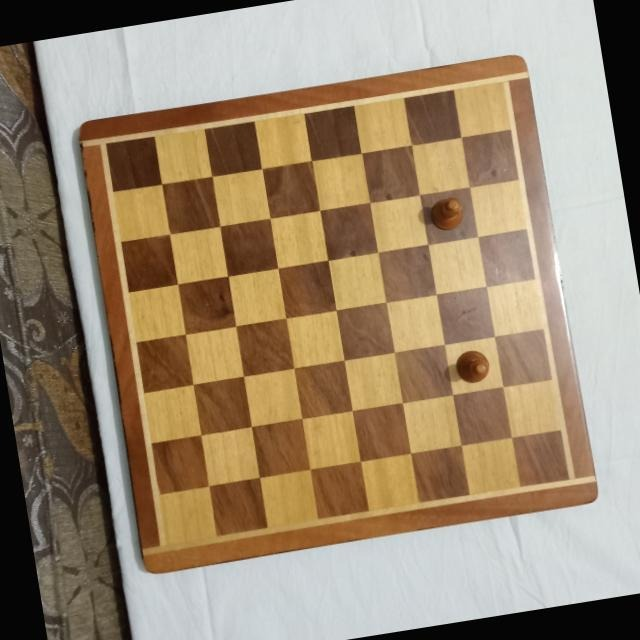white-pawn: (452, 345, 494, 386), (426, 194, 469, 234)
